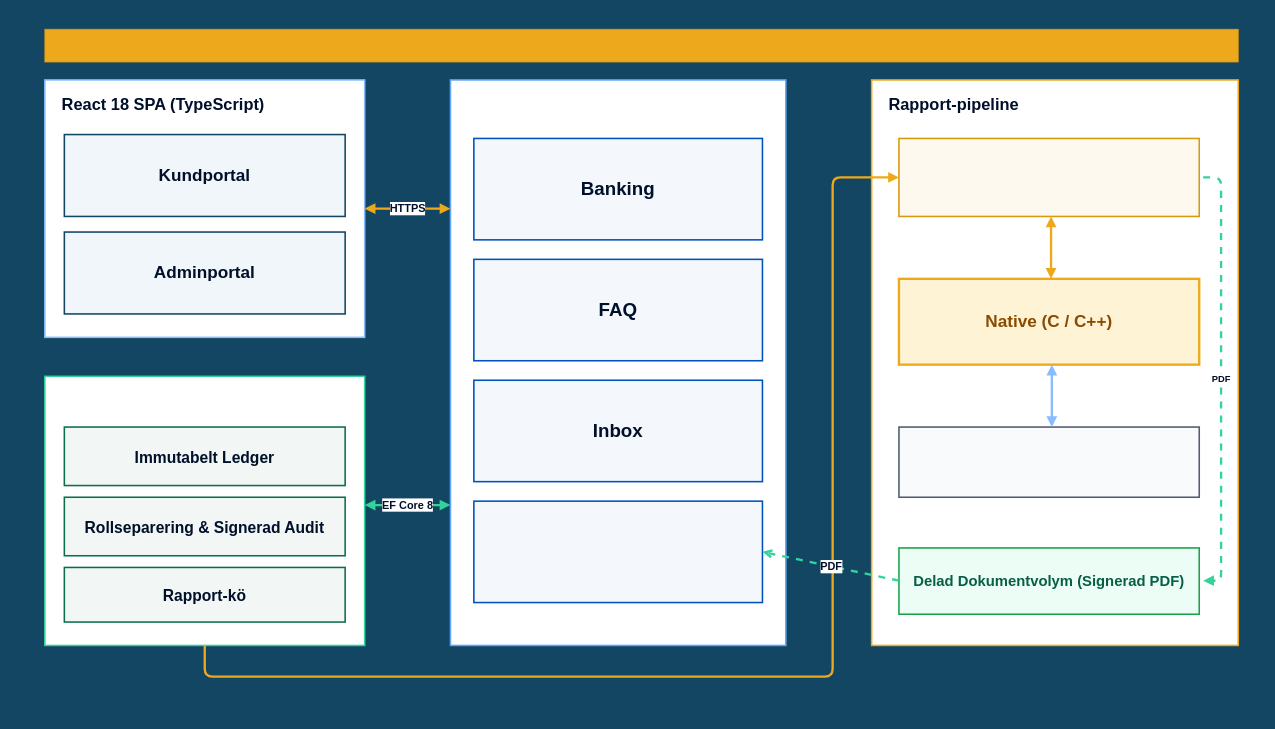
Image size: 1275x729. Some labels were removed from this diagram. Each missing label, with the box of its shape:
.NET 8 Web API: (449, 79, 786, 646)
Nordiska Sparbanken v2 — Systemarkitektur: (44, 28, 1238, 62)
Nordiska.Reporting.Worker (.NET 8): (898, 137, 1200, 217)
PostgreSQL 15: (44, 375, 365, 646)
Reporting: (473, 500, 763, 603)
TSA Server: (898, 426, 1200, 498)
